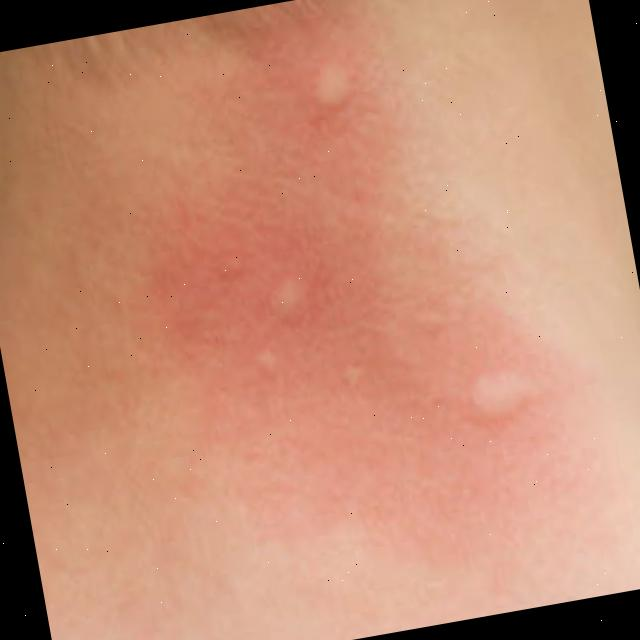sinek: (442, 341, 556, 454), (293, 40, 381, 134), (234, 329, 302, 415), (259, 265, 333, 327)
